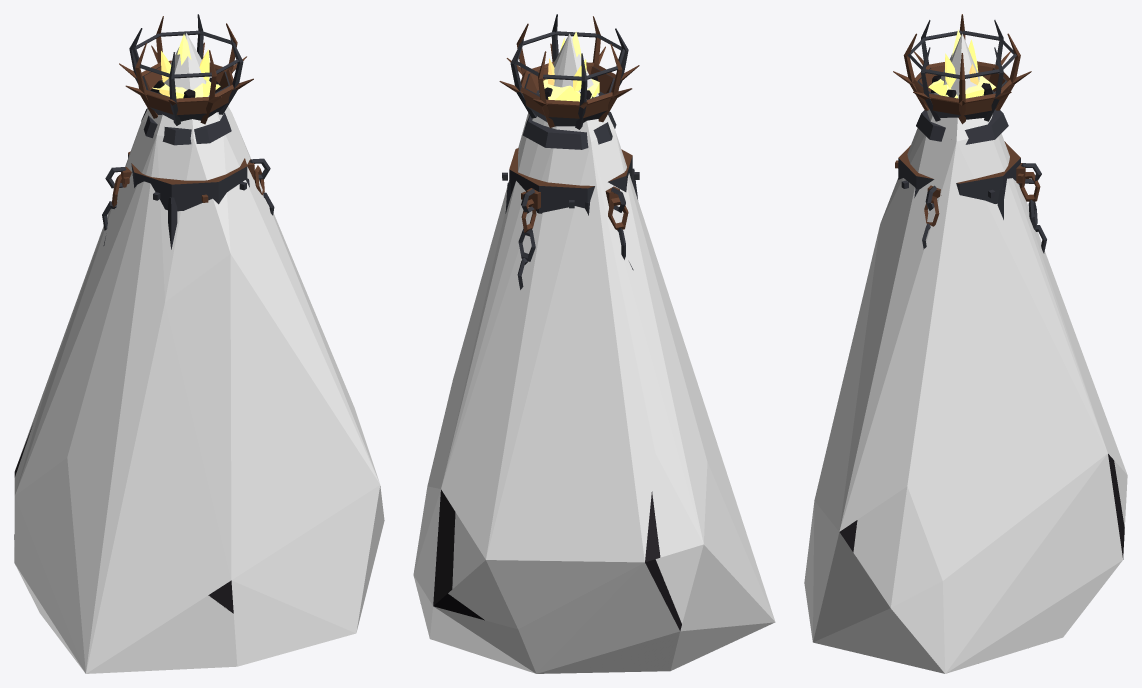
Rendered from volcanic_chain_bridge_anchor.glb.
3 views of the same model, side by side, from view 1: azimuth 30°, elevation 25°; view 2: azimuth 150°, elevation 25°; view 3: azimuth 270°, elevation 25° (orthographic). The views are drawn at different scales.
Visible parts, largest first — view 1: col_chain_pylon, VolcanicChainBridgeAnchor; view 2: col_chain_pylon, VolcanicChainBridgeAnchor; view 3: col_chain_pylon, VolcanicChainBridgeAnchor.
Part boxes in pixels (x1=…): col_chain_pylon: x1=14, y1=33, x2=384, y2=673; VolcanicChainBridgeAnchor: x1=14, y1=14, x2=274, y2=613; col_chain_pylon: x1=413, y1=33, x2=775, y2=673; VolcanicChainBridgeAnchor: x1=433, y1=14, x2=681, y2=630; col_chain_pylon: x1=804, y1=33, x2=1127, y2=673; VolcanicChainBridgeAnchor: x1=839, y1=14, x2=1124, y2=559.
Bounding box in the file's own units: 9.24 × 16.1 × 8.34.
